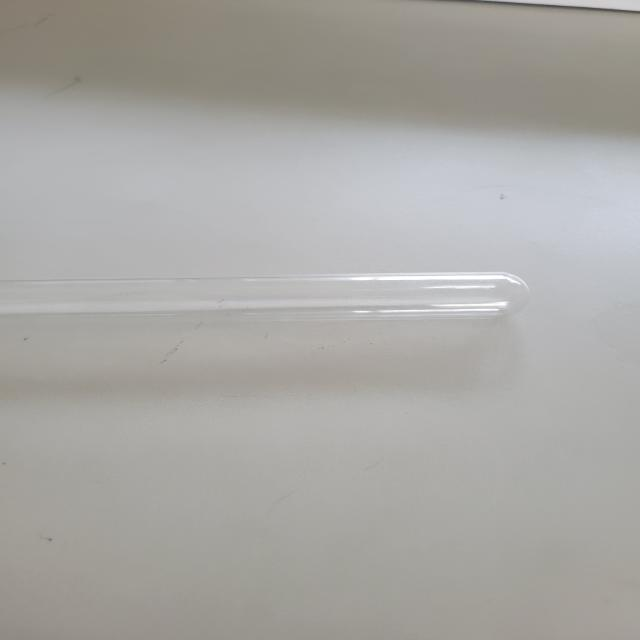Test_Tube: (0, 232, 551, 363)
